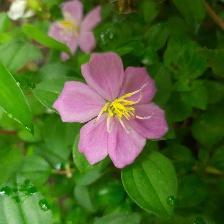malabar melastome: (55, 52, 171, 171)
